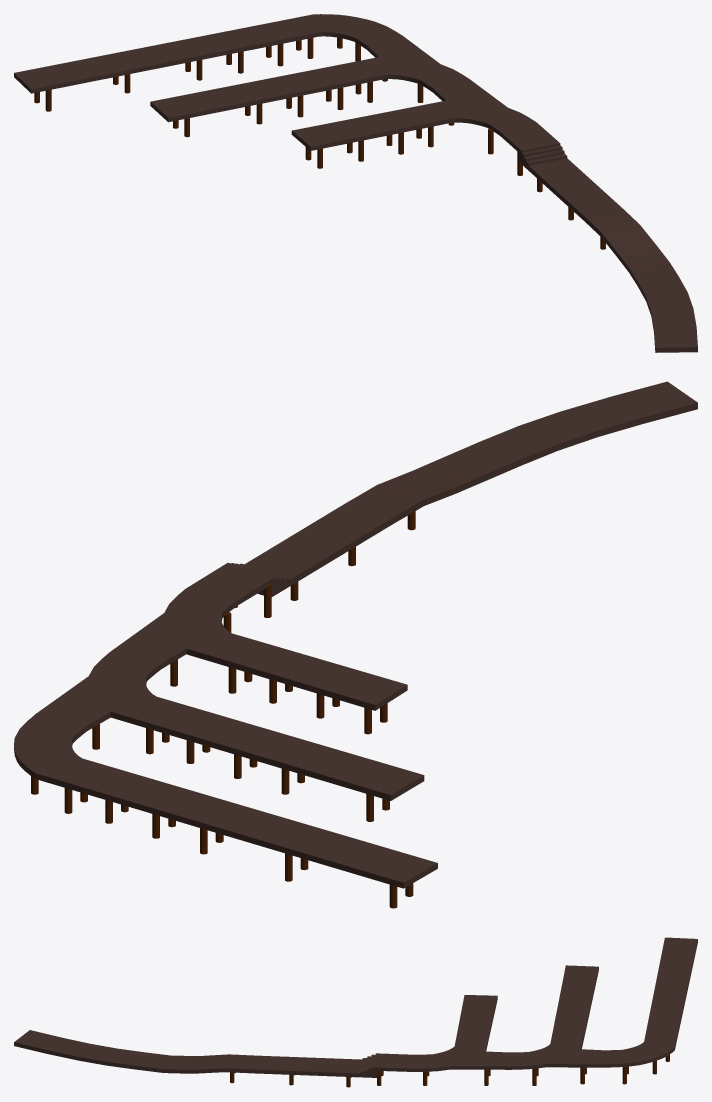
Rendered from Enviro_Creole_Dock.fbx.
The picture shows the model from 3 angles, top to bottom: view 1: azimuth 30°, elevation 25°; view 2: azimuth 150°, elevation 25°; view 3: azimuth 270°, elevation 25°; orthographic projection. The views are drawn at different scales.
Visible parts, largest first — view 1: pCube18; view 2: pCube18; view 3: pCube18.
Part boxes in pixels (<box>): pCube18: <box>14,14,697,352</box>; pCube18: <box>14,381,697,888</box>; pCube18: <box>14,937,697,1077</box>.
Size of the model in its own units: 140 by 11.21 by 308.
